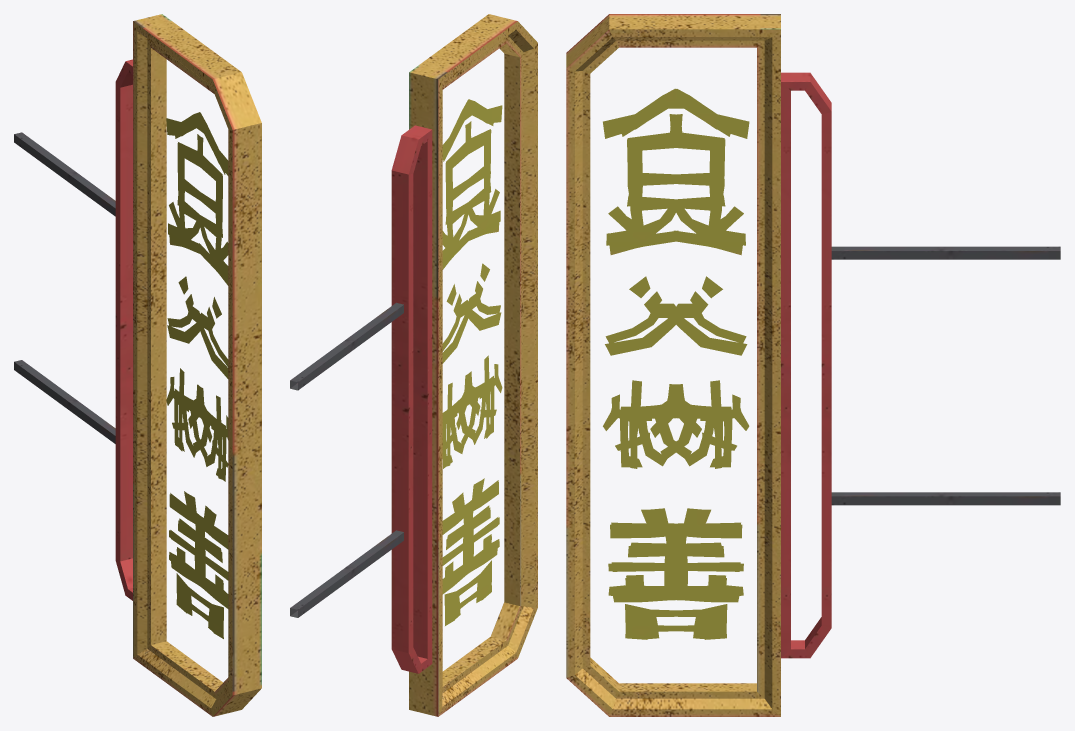
3 renders of one model, left to right at view 1: azimuth 30°, elevation 25°; view 2: azimuth 150°, elevation 25°; view 3: azimuth 270°, elevation 25°, orthographic. The views are drawn at different scales.
Visible parts, largest first — view 1: Ad01_Art; view 2: Ad01_Art; view 3: Ad01_Art.
Boxes of the visible parts, x1=… form: Ad01_Art: x1=14, y1=14, x2=261, y2=716; Ad01_Art: x1=290, y1=14, x2=537, y2=716; Ad01_Art: x1=566, y1=14, x2=1060, y2=716.
Size of the model in its own units: 0.4754 by 9.94 by 6.47.
1 material, 1 textured.
